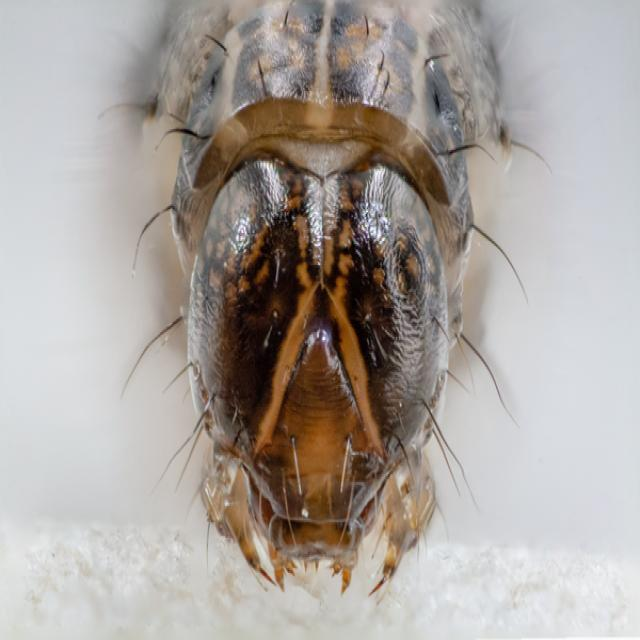army worm: (101, 20, 523, 616)
